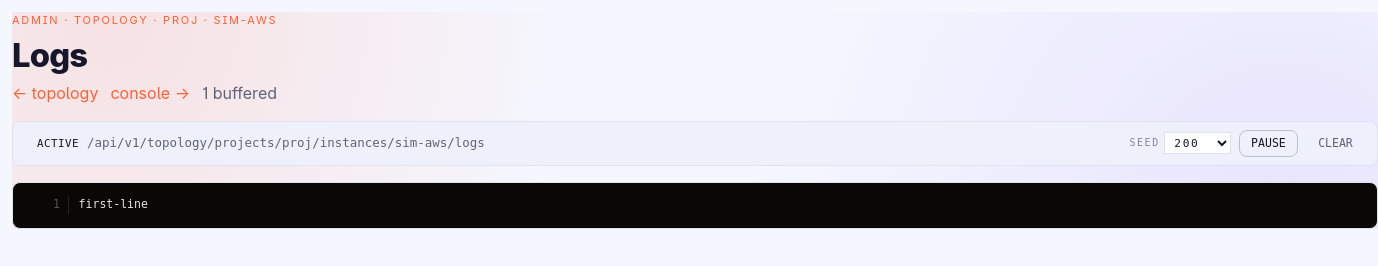
Test case: InstanceLogsPage › clear empties the buffer
Expected: the text "first-line" is shown, [79,196,148,214]
Click the button "clear": x=1336, y=143 [1306,130,1365,157]
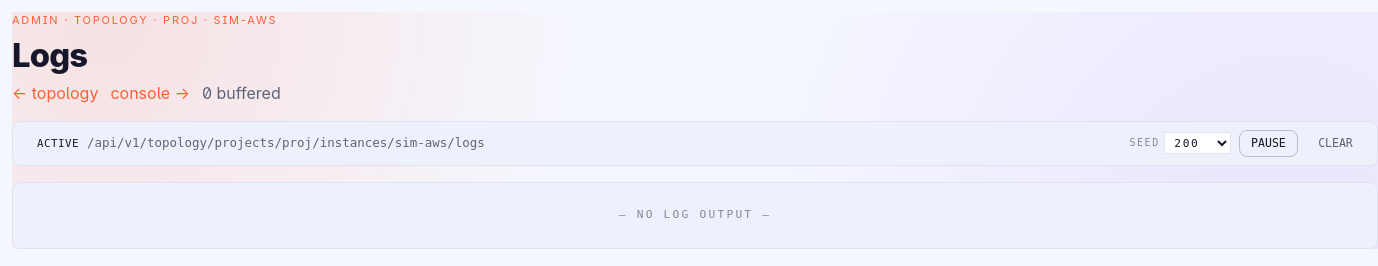
Expected: the text "first-line" is gone
